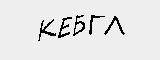Б: (73, 12, 85, 35)
Г: (88, 12, 103, 36)
Е: (57, 14, 73, 39)
К: (37, 16, 56, 44)
Л: (105, 15, 124, 37)
